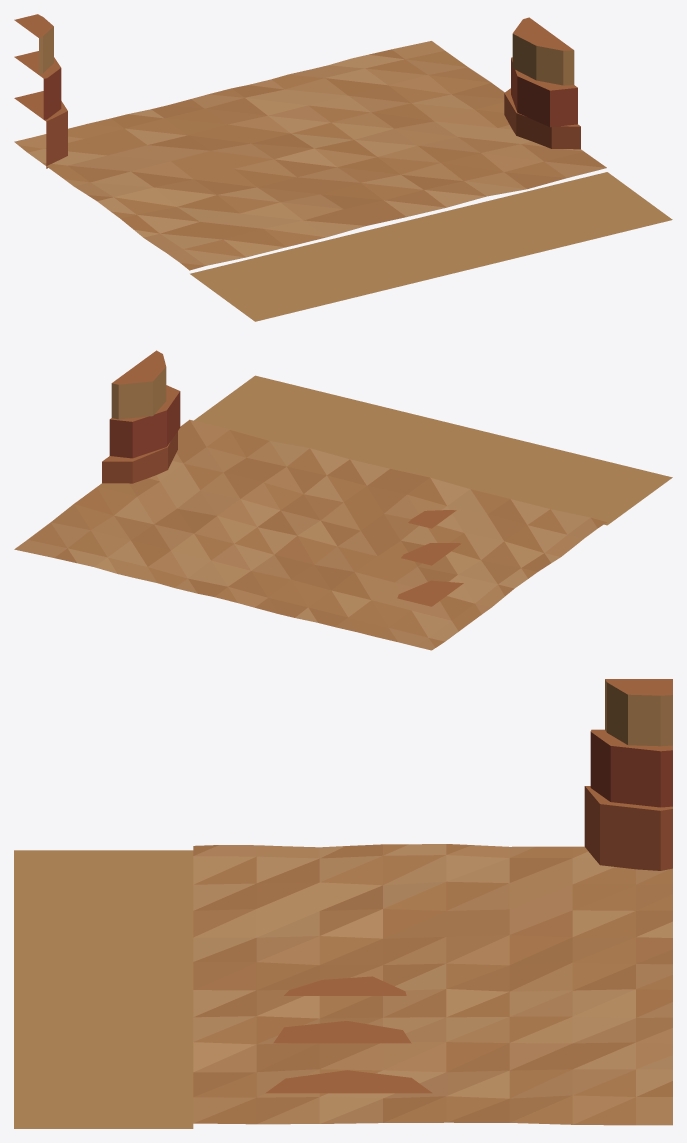
3 views of the same model, one above another, from view 1: azimuth 30°, elevation 25°; view 2: azimuth 150°, elevation 25°; view 3: azimuth 270°, elevation 25° (orthographic). The views are drawn at different scales.
Visible parts, largest first — view 1: baked; view 2: baked; view 3: baked.
Boxes of the visible parts, x1,y1,x2,y2 form: baked: [14, 14, 672, 321]; baked: [14, 350, 672, 650]; baked: [14, 679, 672, 1128].
Bounding box in the file's own units: 125 × 35.84 × 125.
